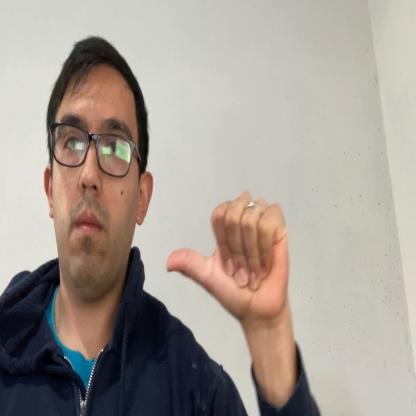A: (166, 189, 291, 322)
